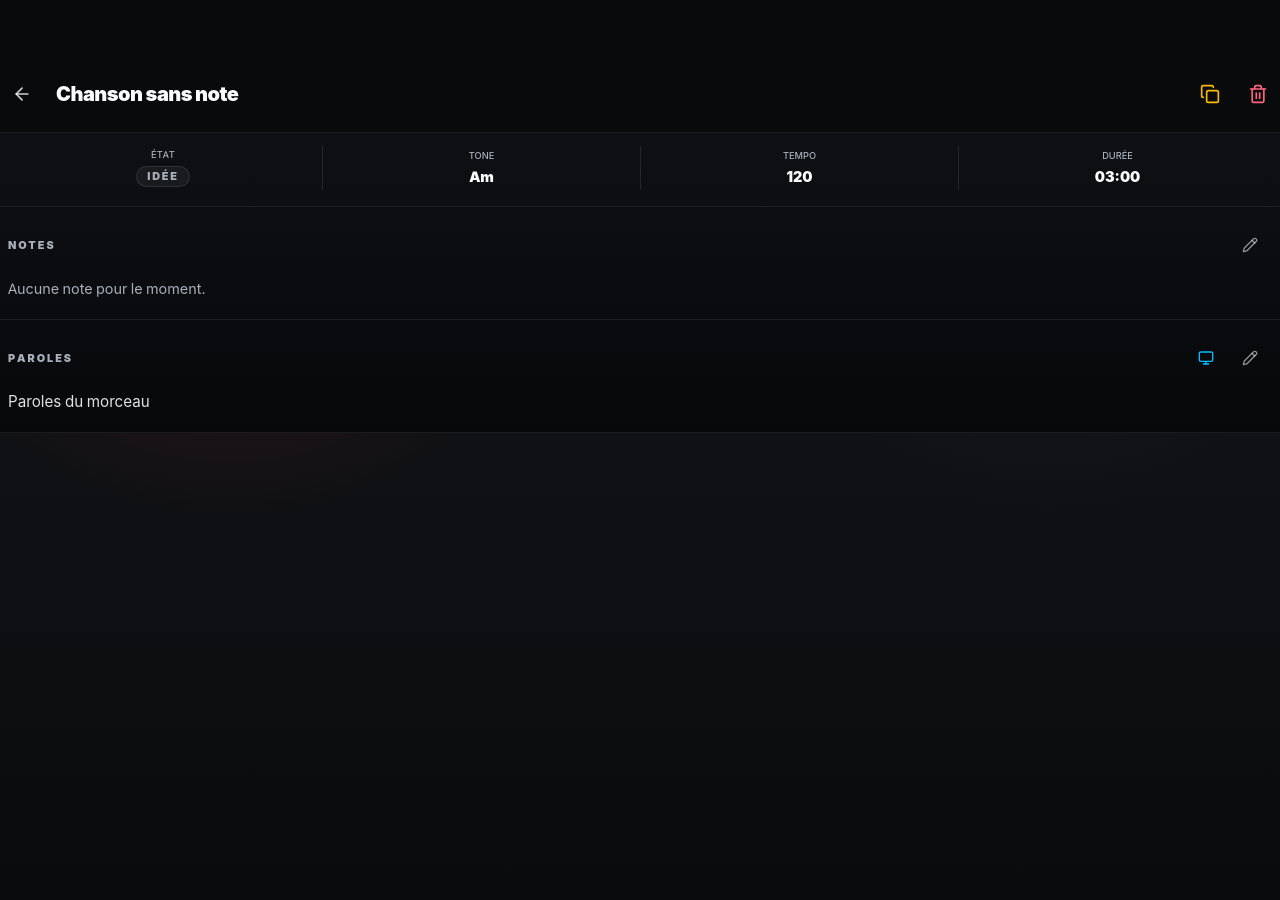
Test: SongDetailPage - Notes › ouvre directement le sélecteur de Modifier l'état
The width and height of the screenshot is (1280, 900).
What coordinates should you click on to do the following:
click the button with aria-label "Modifier l'état"
I would click on:
 (163, 168)
Its box is [4,146,322,190].
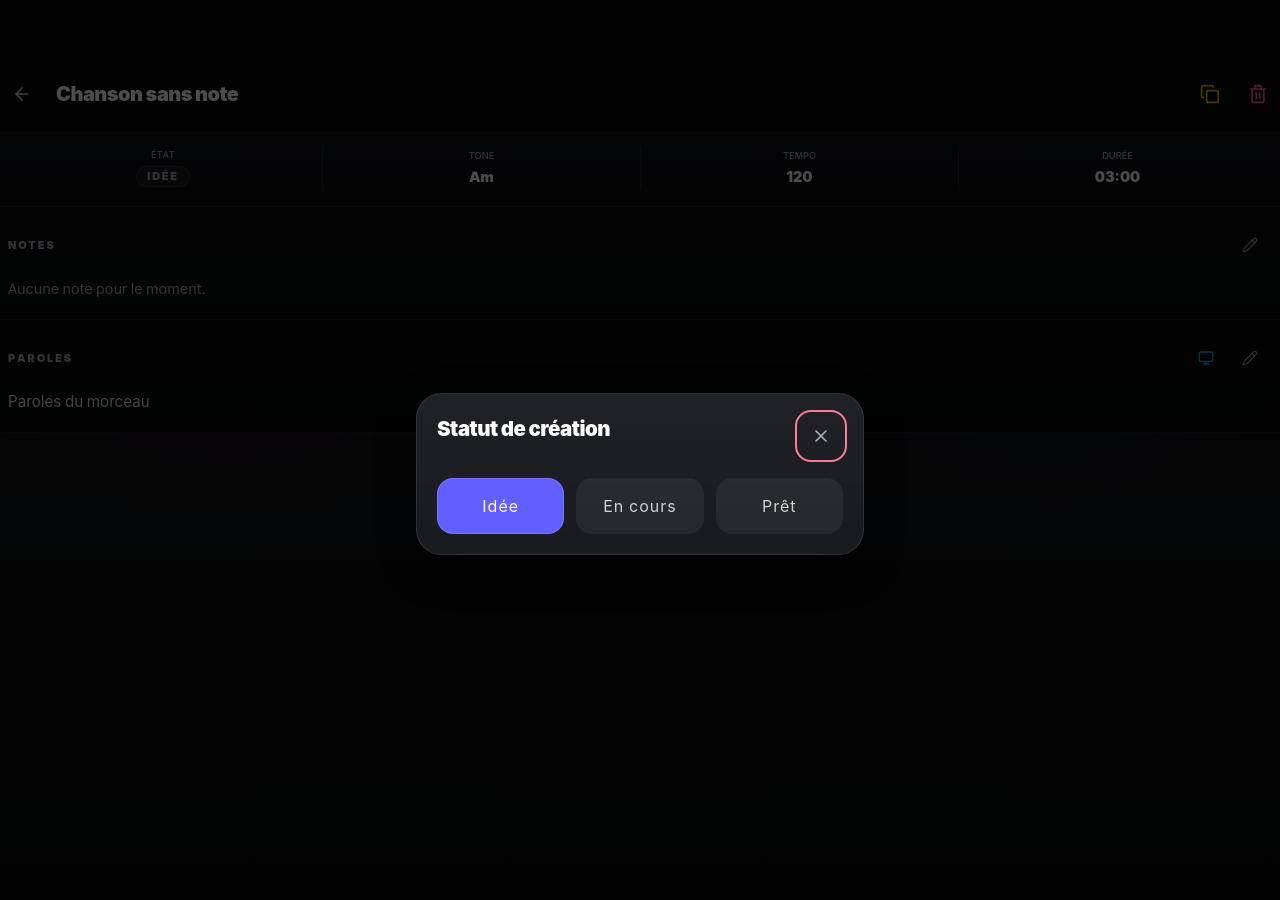
Expected: the dialog "Statut de création" is shown, [416,393,864,555]
